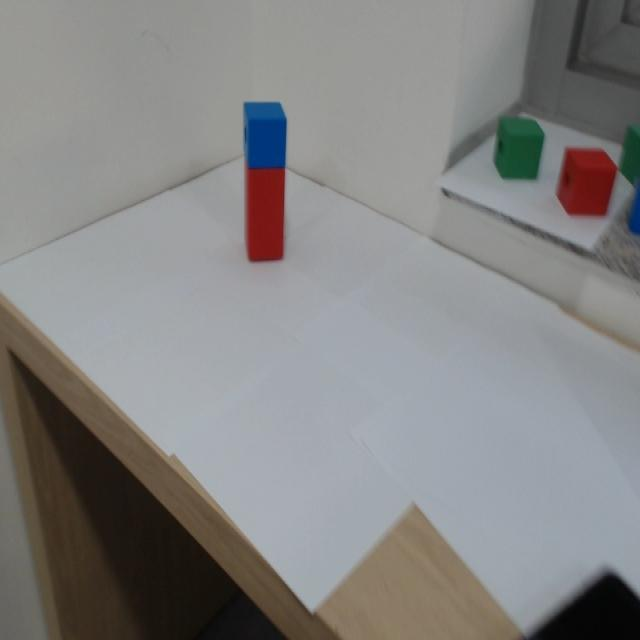cube: (233, 93, 301, 166)
